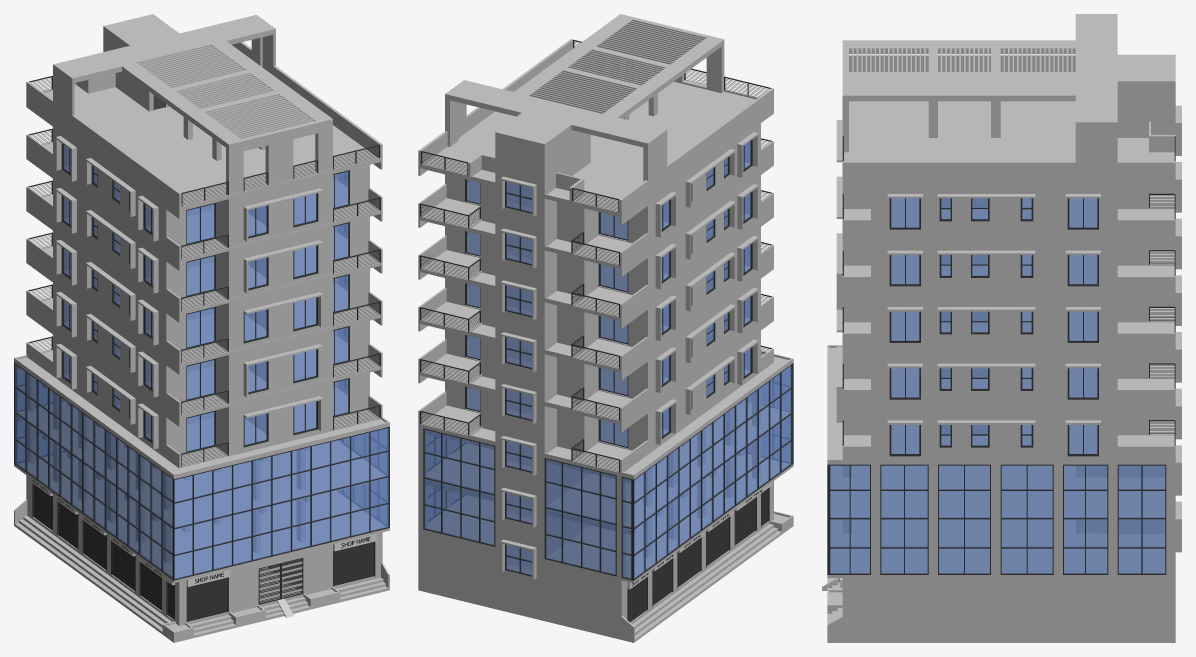
Rendered from Mixed Use Building_2_BLEND.gltf.
3 views of the same model, side by side, from view 1: azimuth 30°, elevation 25°; view 2: azimuth 150°, elevation 25°; view 3: azimuth 270°, elevation 25° (orthographic). The views are drawn at different scales.
Parts seen in each view (by area): view 1: WINDOW.002, FLOOR, WALL.002, WALL.001, ROOF, DESIGN, BALCONY, ROOF.004, WINDOW, ROOF.001, DOOR, GROUND FLOOR.004 (+9 smaller); view 2: WALL.001, WINDOW.002, BALCONY, FLOOR, ROOF, DESIGN, WALL.003, GROUND FLOOR.001, ROOF.004, ROOF.001, RAILING, PLANTER (+11 smaller); view 3: WALL.002, FLOOR, WINDOW.002, ROOF, GROUND FLOOR.001, ROOF.004, BALCONY, WINDOW, DESIGN, ROOF.001, GROUND FLOOR.004, WALL.001 (+5 smaller).
Part boxes in pixels (x1,y1,x2,y2): WINDOW.002: (14,362,389,580); FLOOR: (14,166,389,582); WALL.002: (166,149,369,513); WALL.001: (53,87,166,458); ROOF: (26,14,382,208); DESIGN: (55,136,333,449); BALCONY: (26,134,382,468); ROOF.004: (26,83,382,218); WINDOW: (61,143,347,447); ROOF.001: (122,41,329,147); DOOR: (186,170,349,452); GROUND FLOOR.004: (14,499,389,642); WALL.001: (445,113,760,455); WINDOW.002: (423,363,793,580); BALCONY: (418,141,773,476); FLOOR: (425,162,793,583); ROOF: (418,14,773,214); DESIGN: (500,132,758,579); WALL.003: (495,185,589,558); GROUND FLOOR.001: (418,457,773,629); ROOF.004: (418,81,773,225); ROOF.001: (514,16,721,118); RAILING: (420,138,771,472); PLANTER: (468,218,793,479); WALL.002: (842,72,1117,574); FLOOR: (827,198,1164,577); WINDOW.002: (827,464,1166,574); ROOF: (842,14,1175,178); GROUND FLOOR.001: (842,534,1175,631); ROOF.004: (842,72,1175,189); BALCONY: (842,207,1175,464); WINDOW: (889,198,1098,456); DESIGN: (836,96,1181,552); ROOF.001: (849,40,1075,101); GROUND FLOOR.004: (822,578,1175,642); WALL.001: (1117,138,1175,435).
Size of the model in its own units: 13.56 by 28.04 by 17.57.
